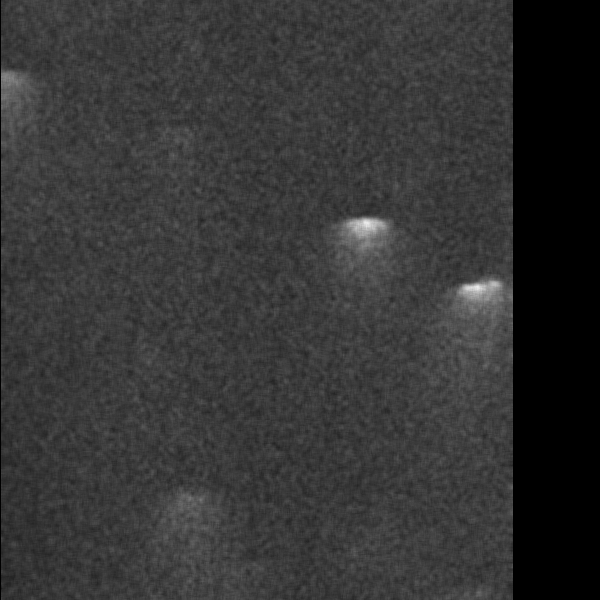spark: (283, 474, 322, 514)
